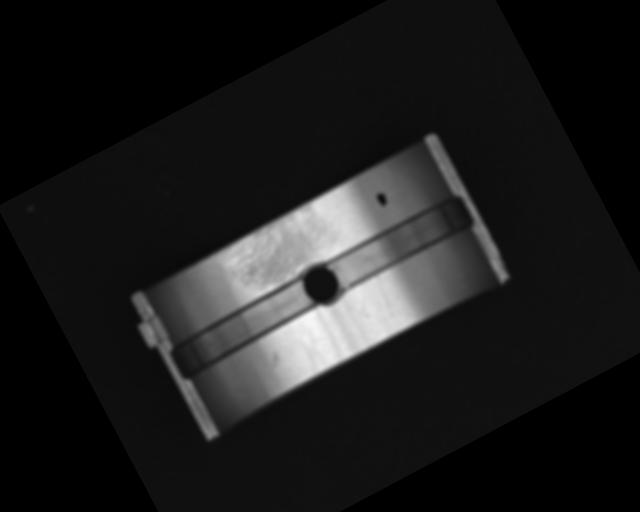blot: (373, 189, 391, 209)
bruise: (265, 350, 284, 370)
gap: (164, 274, 321, 381), (323, 190, 475, 295)
hole: (294, 254, 349, 315)
nick: (371, 274, 394, 309)
scratch: (215, 197, 347, 305)
